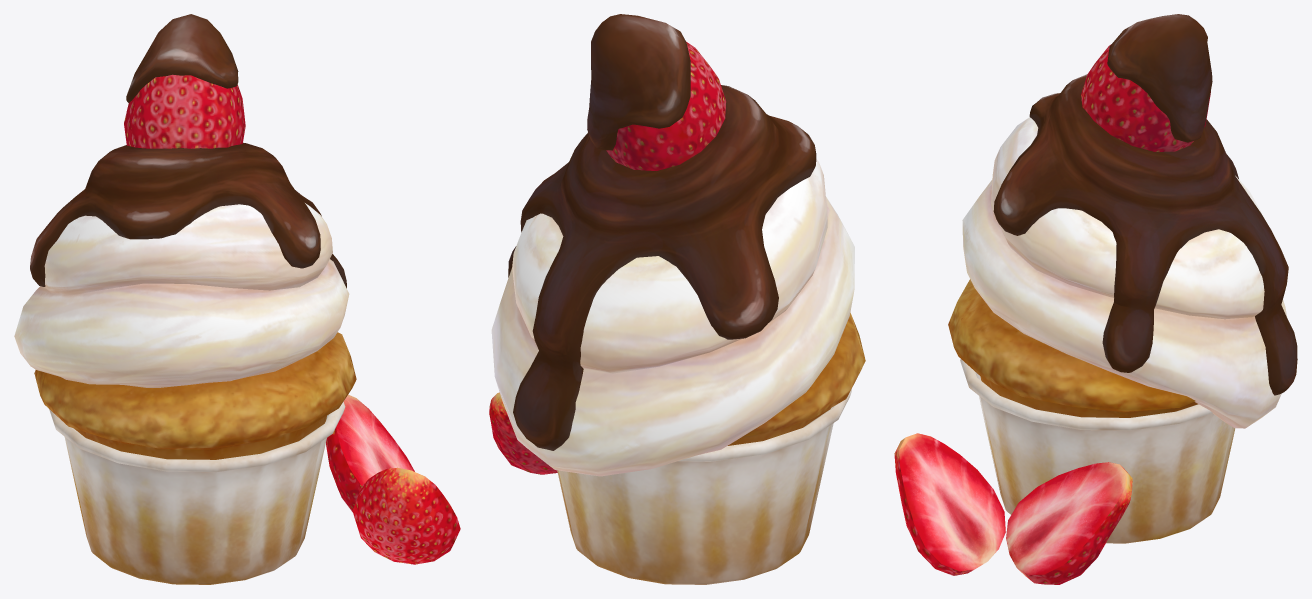
File: muffin.glb
3 views of the same model, side by side, from view 1: azimuth 30°, elevation 25°; view 2: azimuth 150°, elevation 25°; view 3: azimuth 270°, elevation 25° (orthographic). The views are drawn at different scales.
Visible parts, largest first — view 1: Muffin_0, strawberry_1; view 2: Muffin_0, strawberry_1; view 3: Muffin_0, strawberry_1.
Boxes of the visible parts, bbox=[...] form: Muffin_0: bbox=[14, 14, 356, 584]; strawberry_1: bbox=[326, 394, 460, 564]; Muffin_0: bbox=[491, 14, 865, 584]; strawberry_1: bbox=[489, 392, 557, 474]; Muffin_0: bbox=[948, 14, 1297, 543]; strawberry_1: bbox=[894, 433, 1132, 584].
Bounding box in the file's own units: 0.1184 × 0.1631 × 0.1201.
2 materials, 2 textured.
